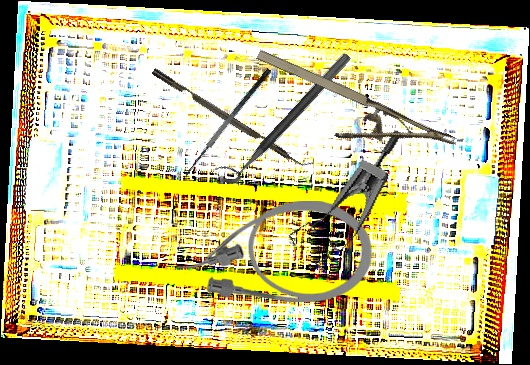Cannula: (177, 201, 372, 302)
Chopper: (151, 60, 315, 174)
Fixation Ring: (211, 42, 353, 190)
Needle Holder: (240, 44, 459, 185)
Spatula Surgical: (180, 67, 281, 183)
Speculum: (281, 108, 404, 282)
